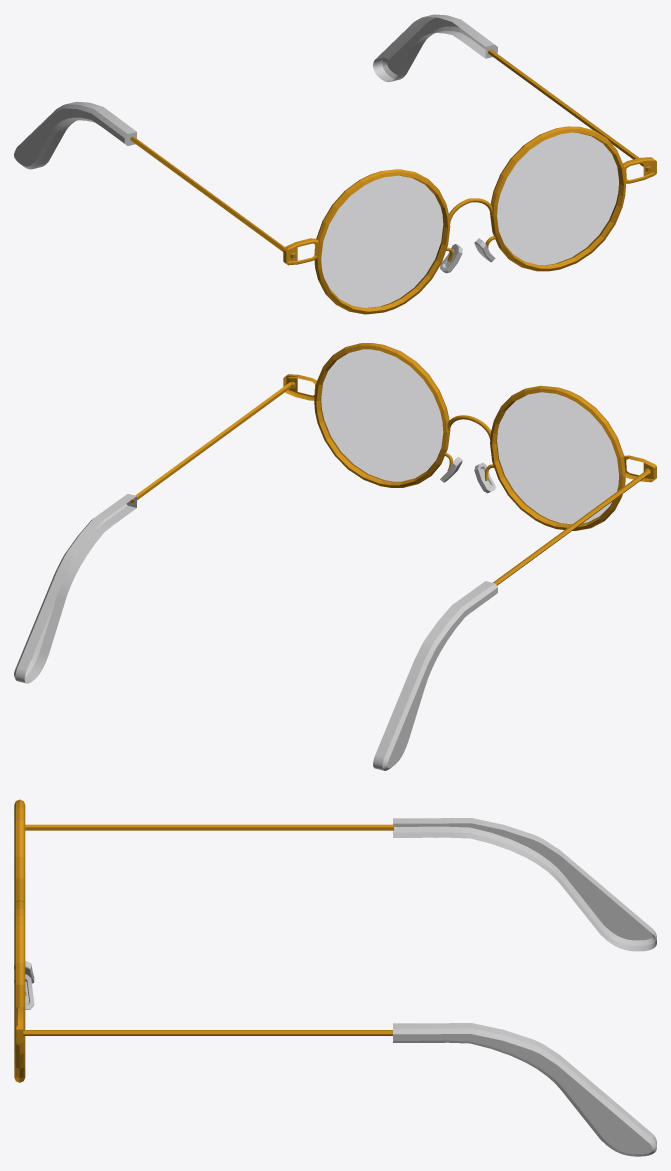
Rendered from Glass-1__cv1.fbx.
3 views of the same model, one above another, from view 1: azimuth 30°, elevation 25°; view 2: azimuth 150°, elevation 25°; view 3: azimuth 270°, elevation 25° (orthographic). The views are drawn at different scales.
Parts seen in each view (by area): view 1: Disc, Extrude, Sweep, Cylinder, Cube, Cube_1; view 2: Disc, Extrude, Sweep, Cylinder, Cube; view 3: Extrude, Cylinder, Sweep.
Boxes of the visible parts, <box> form: Disc: <box>321,133,619,307</box>; Extrude: <box>14,14,497,169</box>; Sweep: <box>314,126,625,314</box>; Cylinder: <box>130,49,643,251</box>; Cube: <box>283,157,656,265</box>; Cube_1: <box>440,238,495,273</box>; Disc: <box>321,349,618,523</box>; Extrude: <box>14,494,497,770</box>; Sweep: <box>314,343,625,530</box>; Cylinder: <box>130,382,650,585</box>; Cube: <box>283,374,656,482</box>; Extrude: <box>393,818,656,1156</box>; Cylinder: <box>23,824,393,1035</box>; Sweep: <box>14,799,25,1082</box>.
Bounding box in the file's own units: 1177 × 496 × 1494.
